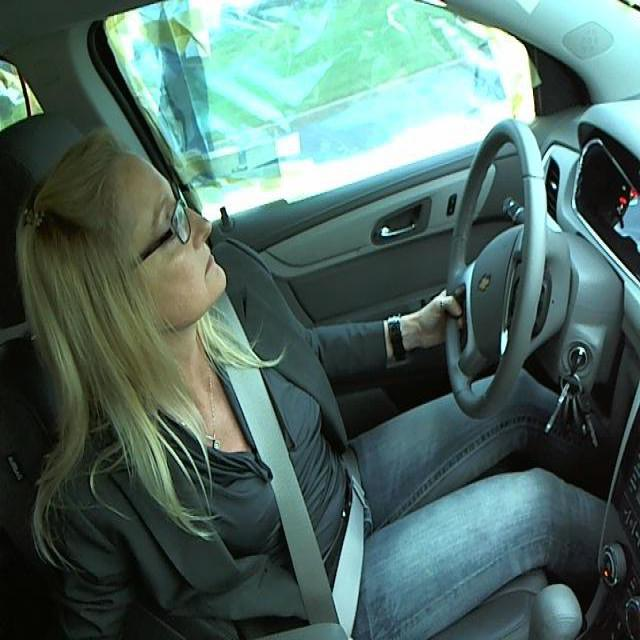seatbelt: (201, 331, 372, 632)
